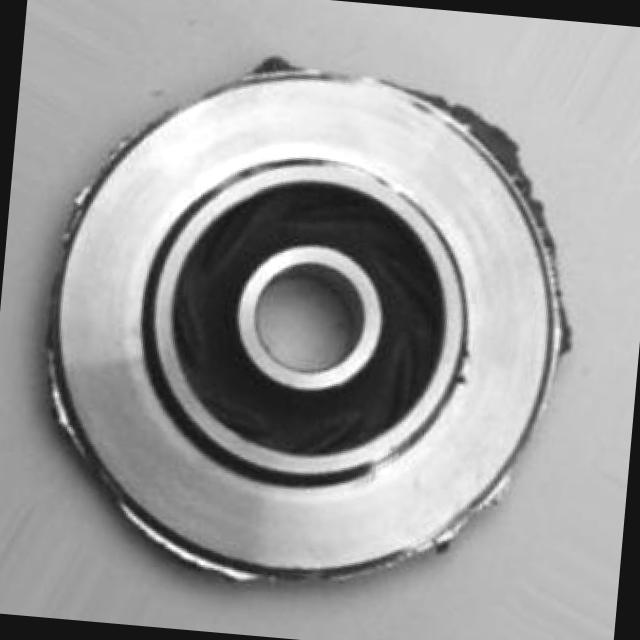Defect: (416, 89, 556, 230)
